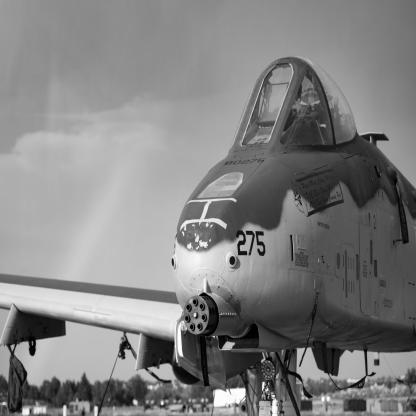A10: (1, 55, 416, 416)
